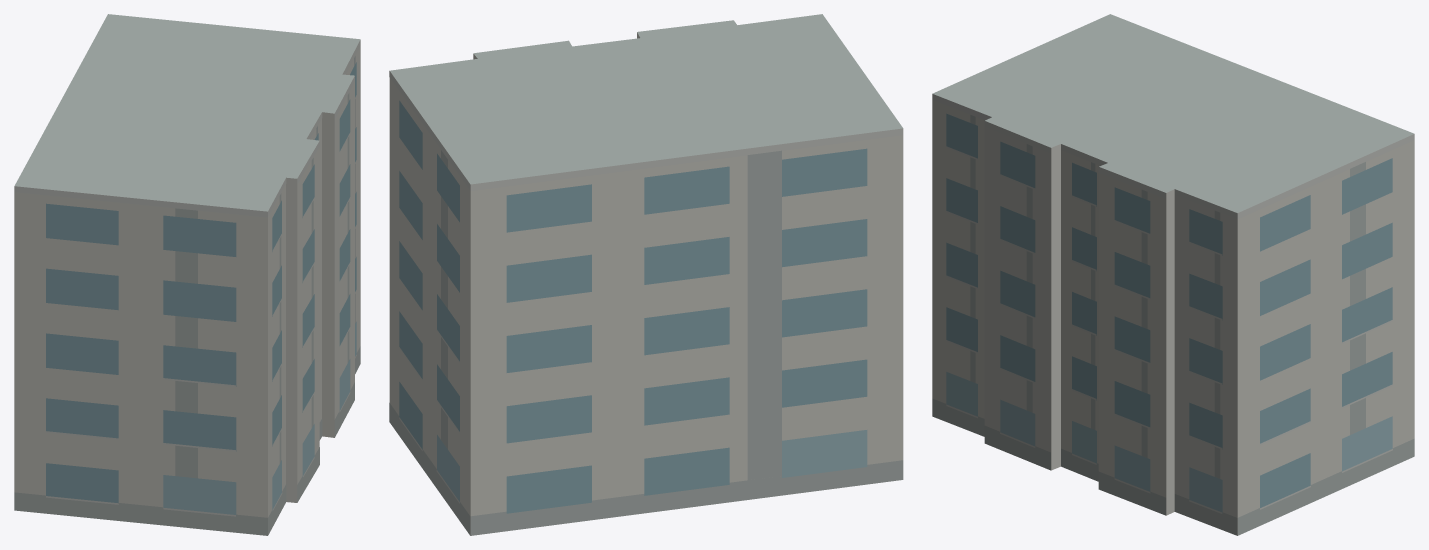
The model's file is survey-upis-32946395.glb.
3 renders of one model, left to right at view 1: azimuth 30°, elevation 25°; view 2: azimuth 150°, elevation 25°; view 3: azimuth 270°, elevation 25°, orthographic. The views are drawn at different scales.
Parts seen in each view (by area): view 1: survey-upis-32946395.tmp; view 2: survey-upis-32946395.tmp; view 3: survey-upis-32946395.tmp.
Boxes of the visible parts, x1,y1,x2,y2 form: survey-upis-32946395.tmp: [14, 14, 360, 535]; survey-upis-32946395.tmp: [389, 14, 903, 535]; survey-upis-32946395.tmp: [932, 14, 1414, 535].
Bounding box in the file's own units: 17.22 × 13 × 17.62.
